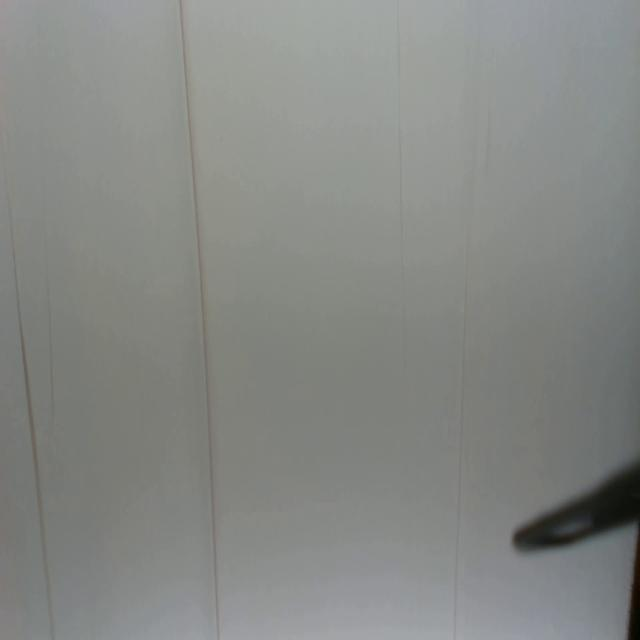crease: (177, 0, 221, 640), (1, 151, 53, 638), (452, 226, 472, 640), (394, 0, 408, 393), (40, 157, 54, 396)
